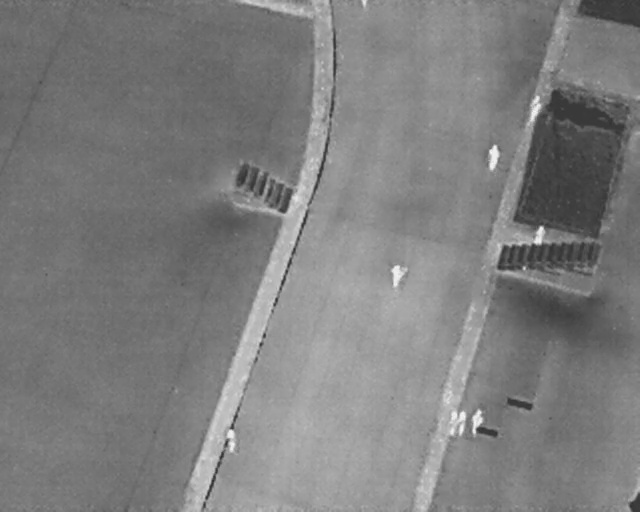Person: (526, 91, 545, 127), (468, 405, 486, 439), (390, 262, 409, 291), (486, 141, 500, 176), (533, 222, 547, 249), (225, 427, 238, 454), (448, 408, 459, 439), (459, 410, 467, 439)
